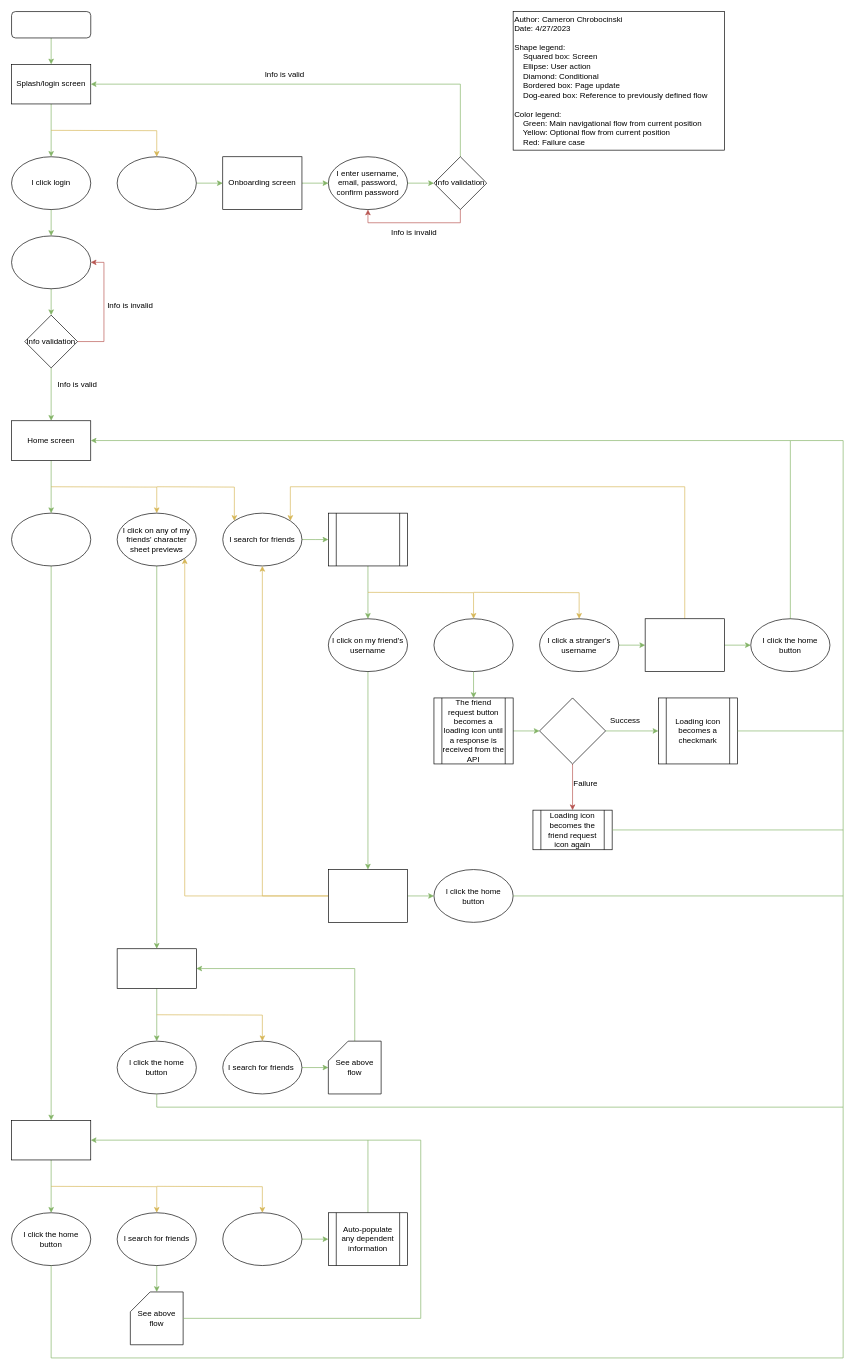
Some shapes in this 855 by 1370 pixel diagram are drawn without their labels. The centre of each missing label's shape, as x and y in pixels:
Dropdown list populates with the top 20 usernames that match the search: the point at 368,539
Friend screen: the point at 368,895
Friend's character sheet screen: the point at 156,968
I click on any of my character sheet previews: the point at 51,539
I click sign up: the point at 156,183
I click the friend request button next to the username of a stranger: the point at 473,645
I enter username/pw: the point at 51,262
I update any information on the character sheet: the point at 262,1239
My character sheet screen: the point at 51,1140
Response from the API: the point at 572,730
START: the point at 51,24
Stranger screen: the point at 684,645
